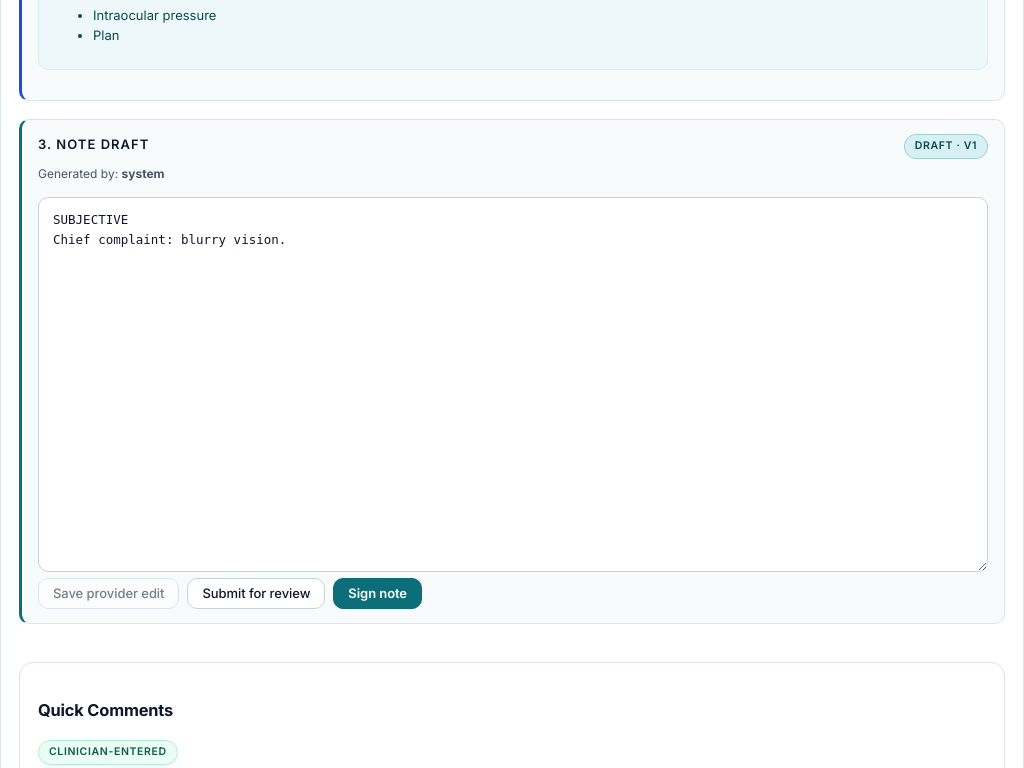
Test: NoteWorkspace › provider edit flips generated-by to 'provider (edited)'
The image size is (1024, 768).
(page scrolled)
Step 1. Replace the text in the text box with test id "note-draft-textarea" with "provider rewrote this line" → (513, 385), box [38,197,988,572]
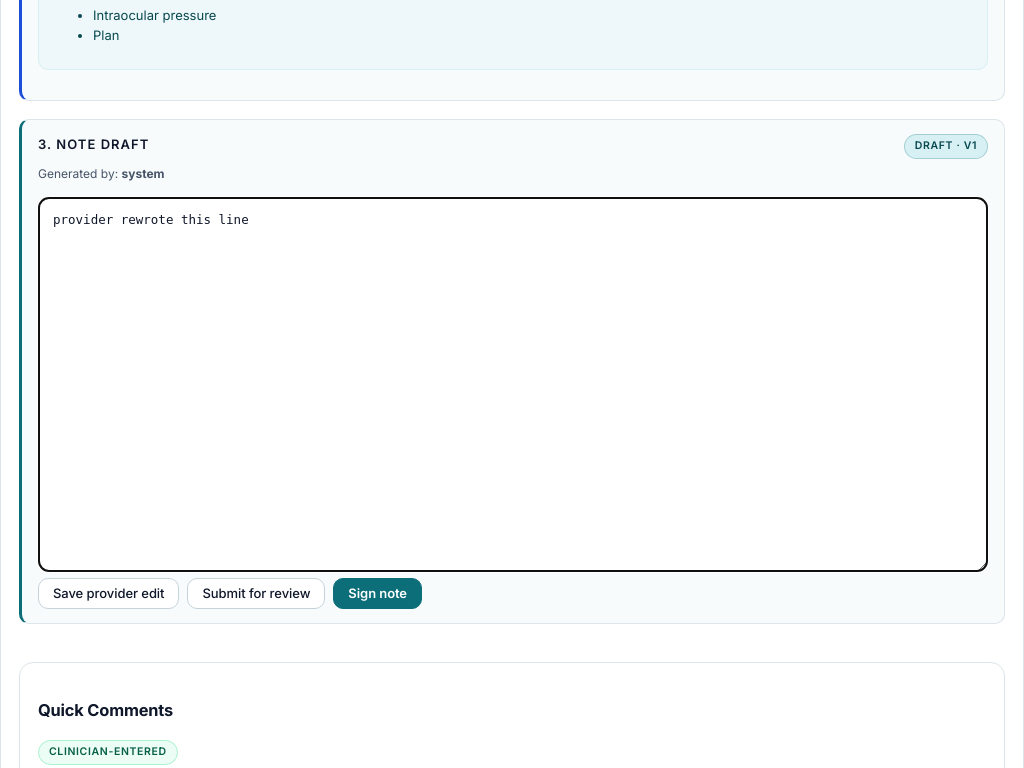
Step 2. Click the button with test id "note-save-edit" → (109, 593), box [38,578,179,609]
(page scrolled)
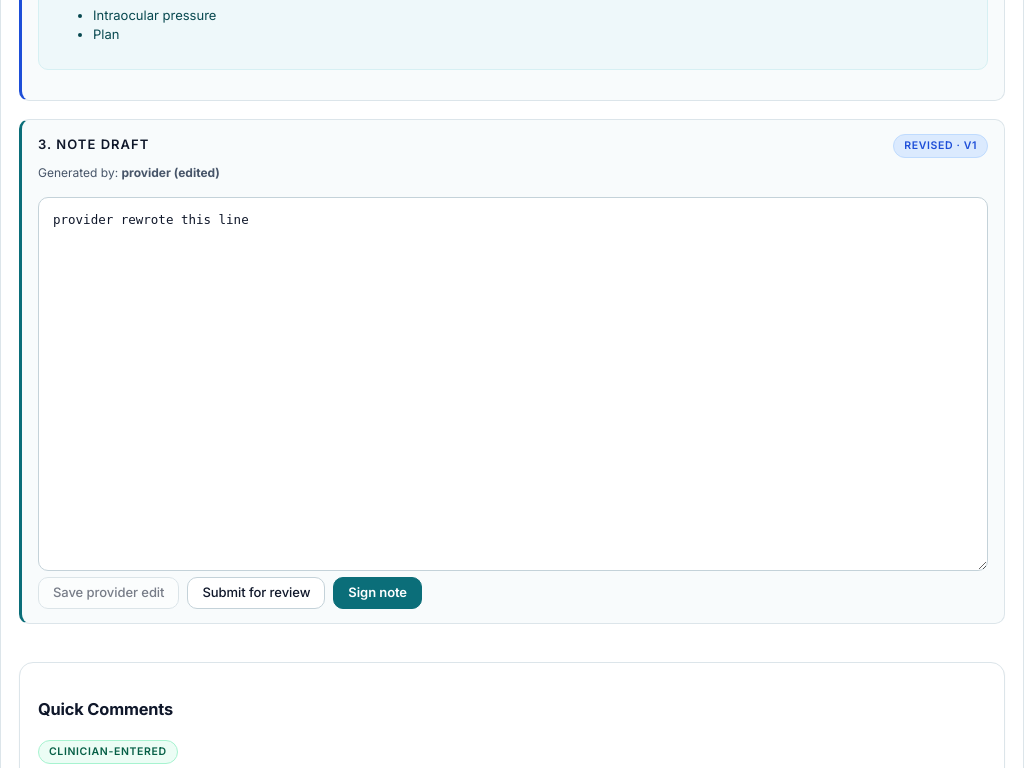
Check: the text with test id "note-generated-by" reads "provider (edited)", box [122,165,220,180]
